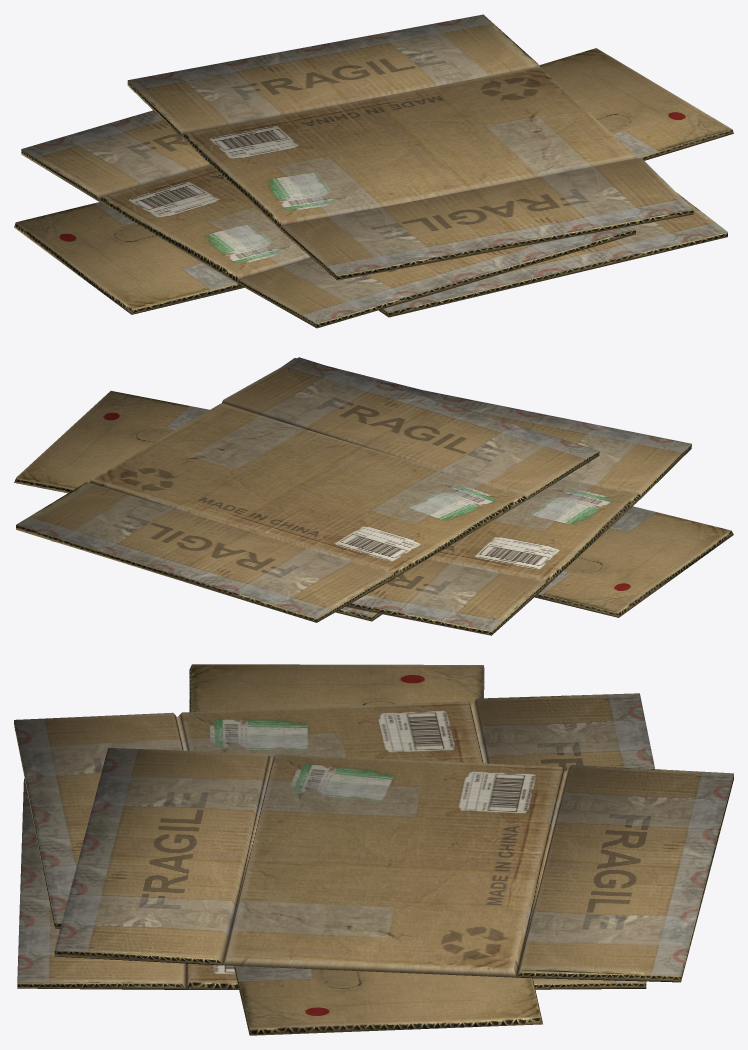
The model's file is cardboard.fbx.
3 renders of one model, top to bottom at view 1: azimuth 30°, elevation 25°; view 2: azimuth 150°, elevation 25°; view 3: azimuth 270°, elevation 25°, orthographic. The views are drawn at different scales.
Visible parts, largest first — view 1: card5_reference.smd; view 2: card5_reference.smd; view 3: card5_reference.smd.
Part boxes in pixels (x1,y1,x2,y2): card5_reference.smd: [14, 14, 733, 328]; card5_reference.smd: [14, 357, 733, 635]; card5_reference.smd: [14, 664, 733, 1035].
Size of the model in its own units: 204 by 6.9 by 163.
1 material, 1 textured.
